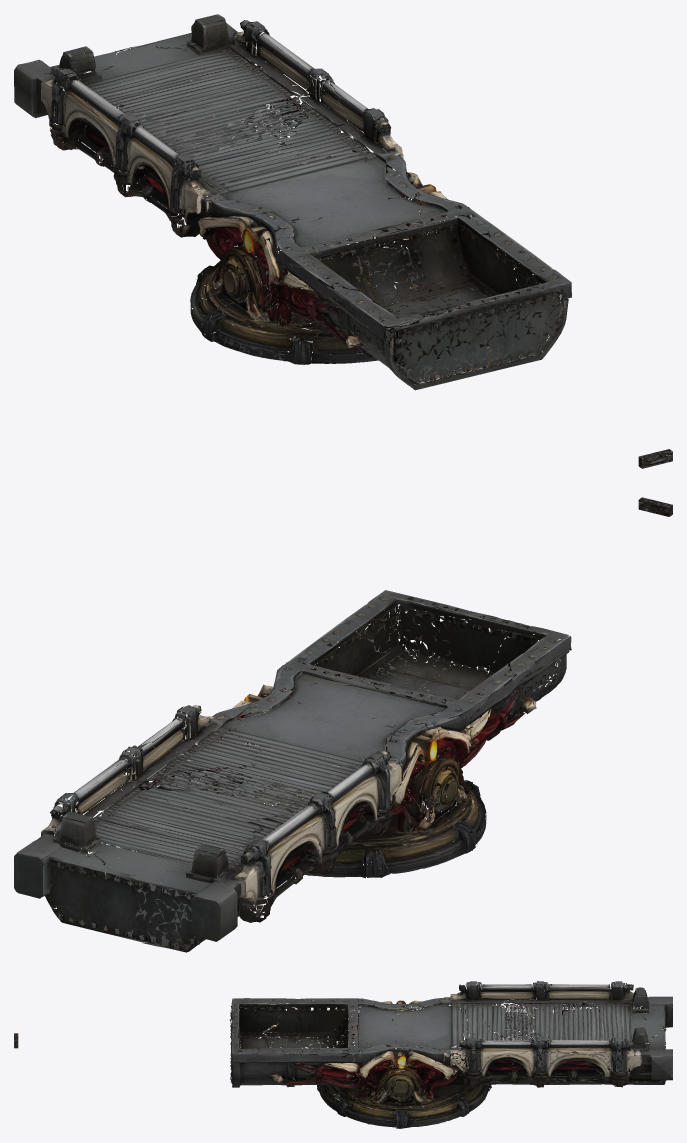
The model's file is traversal_ballast_tilt_floor.glb.
The picture shows the model from 3 angles, top to bottom: view 1: azimuth 30°, elevation 25°; view 2: azimuth 150°, elevation 25°; view 3: azimuth 270°, elevation 25°; orthographic projection. The views are drawn at different scales.
Visible parts, largest first — view 1: node_0; view 2: node_0; view 3: node_0.
Part boxes in pixels (x1,y1,x2,y2): node_0: (14,14,571,390); node_0: (14,590,571,952); node_0: (229,981,672,1128).
Size of the model in its own units: 0.4856 by 0.2289 by 1.69.
Materials: 1 (1 with a texture image).
